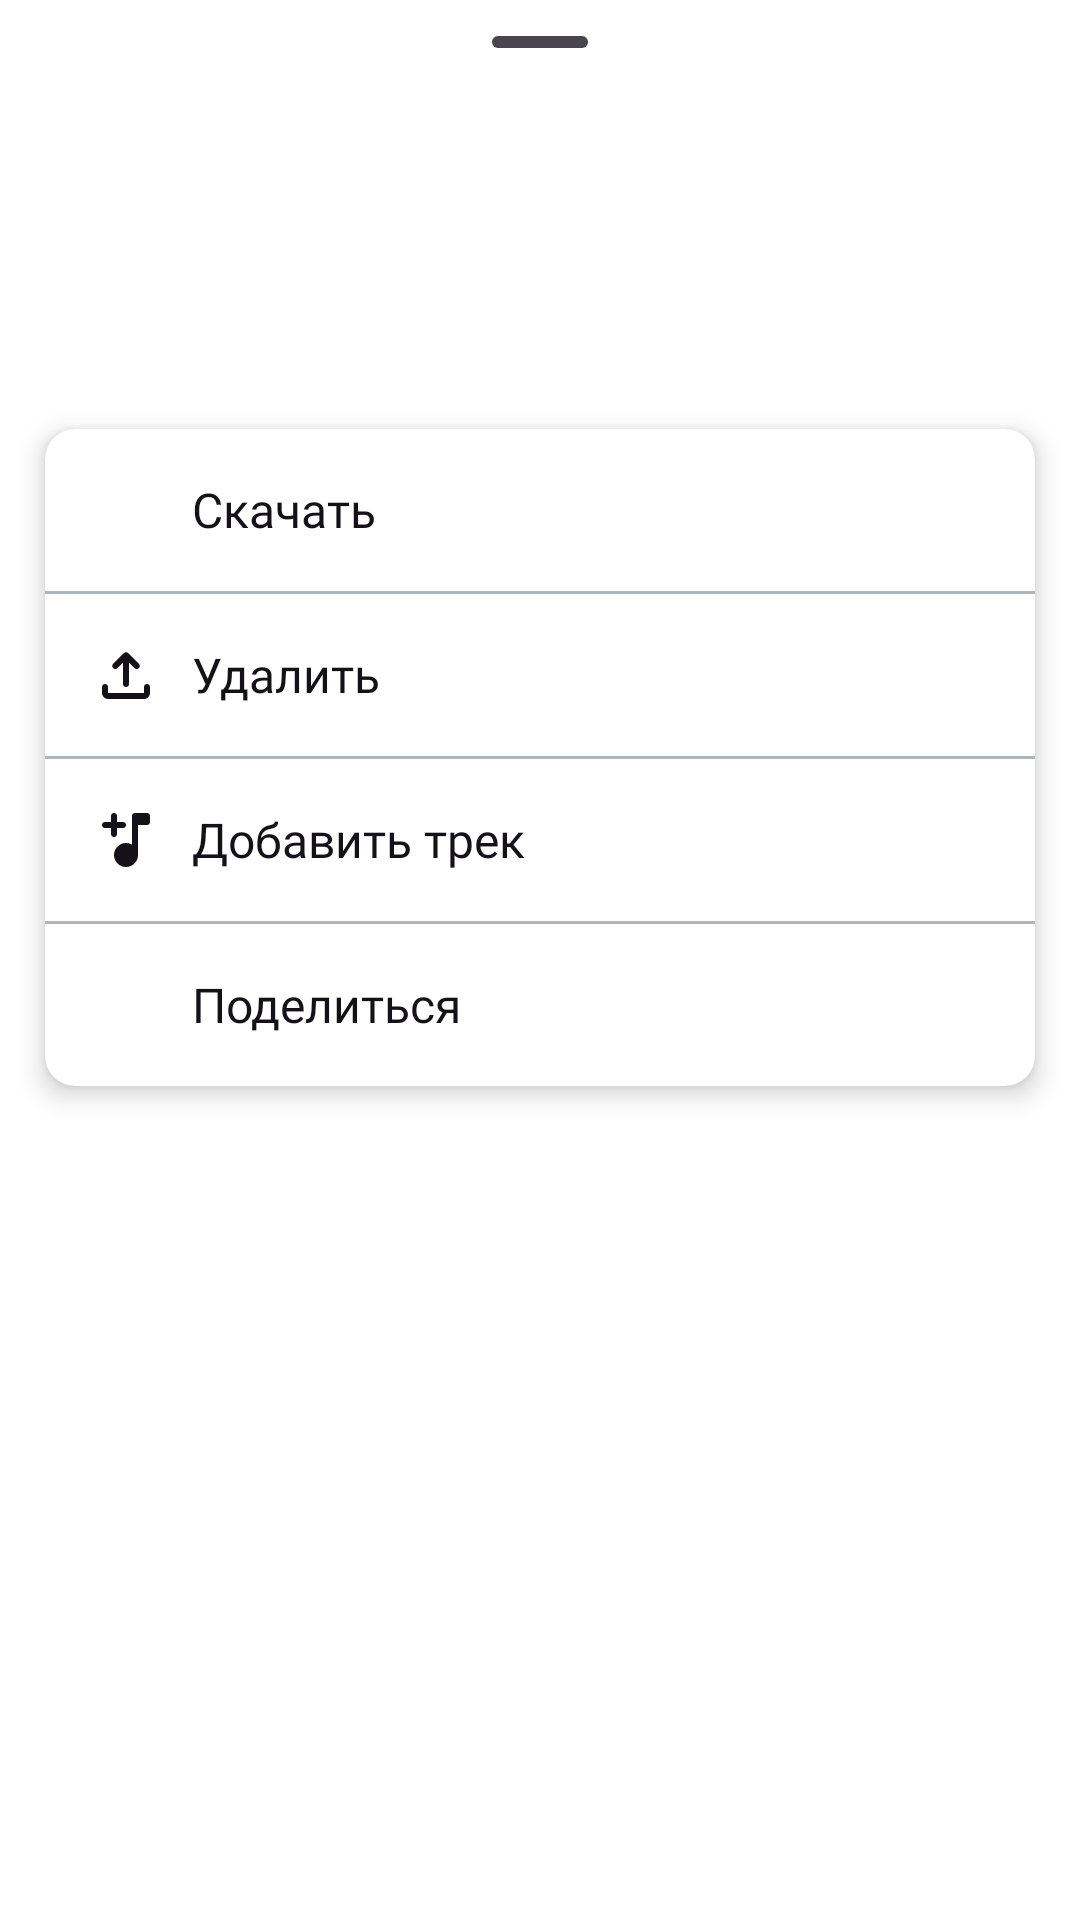

Where to tap for icons on this 1080px x 1920px app screen, as (x=x, y=y):
add note: (x=126, y=840)
upload: (x=126, y=675)
